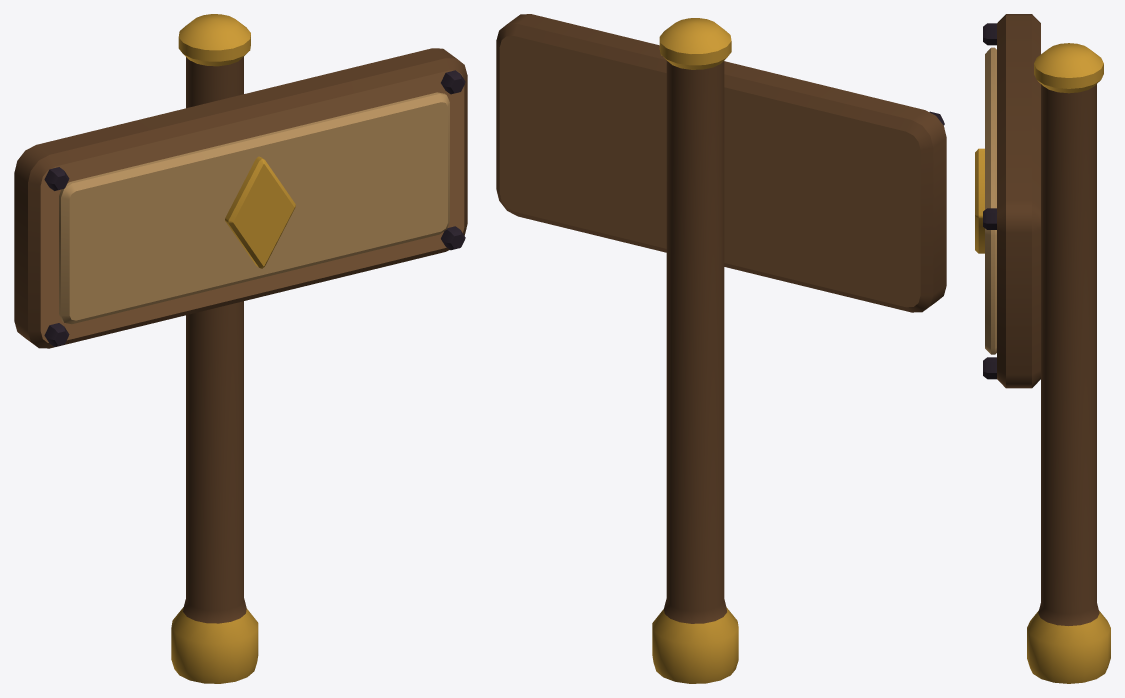
Rendered from Sign_16.glb.
3 views of the same model, side by side, from view 1: azimuth 30°, elevation 25°; view 2: azimuth 150°, elevation 25°; view 3: azimuth 270°, elevation 25° (orthographic). The views are drawn at different scales.
Visible parts, largest first — view 1: Sign_16; view 2: Sign_16; view 3: Sign_16.
Part boxes in pixels (x1,y1,x2,y2): Sign_16: (14, 14, 467, 683); Sign_16: (496, 14, 946, 683); Sign_16: (975, 14, 1110, 683).
Size of the model in its own units: 2.43 by 3.42 by 0.68.
